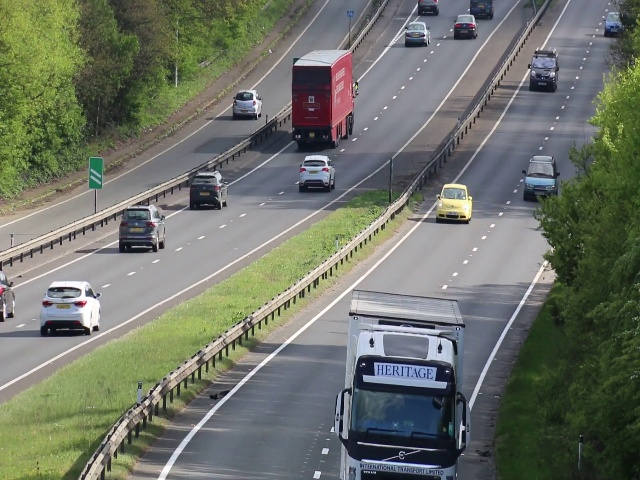car: (333, 354, 472, 480), (291, 48, 357, 149), (40, 279, 100, 336), (119, 205, 167, 254), (297, 153, 336, 193), (189, 173, 227, 209), (434, 185, 471, 221), (525, 157, 554, 202), (527, 59, 559, 91), (232, 87, 263, 120), (450, 14, 480, 39), (1, 270, 15, 320), (404, 22, 431, 47)
